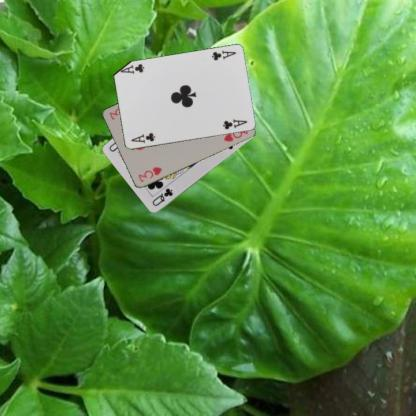3h: (135, 165, 163, 184)
Ac: (128, 130, 157, 144), (208, 48, 237, 62)
Qc: (150, 186, 174, 207)
